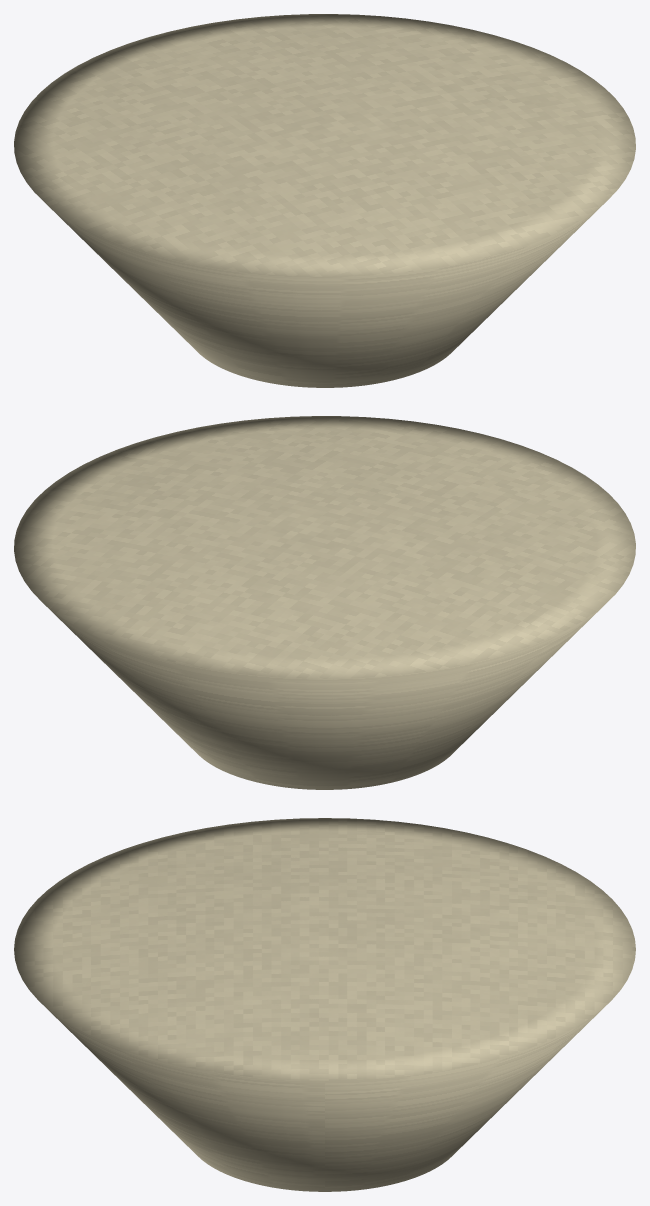
Rendered from BasketRice.fbx.
3 renders of one model, top to bottom at view 1: azimuth 30°, elevation 25°; view 2: azimuth 150°, elevation 25°; view 3: azimuth 270°, elevation 25°, orthographic.
Parts seen in each view (by area): view 1: BasketRice; view 2: BasketRice; view 3: BasketRice.
Boxes of the visible parts, x1,y1,x2,y2 form: BasketRice: [14, 14, 635, 387]; BasketRice: [14, 416, 635, 789]; BasketRice: [14, 818, 635, 1191].
Size of the model in its own units: 0.338 by 0.1194 by 0.338.
1 material, 1 textured.
